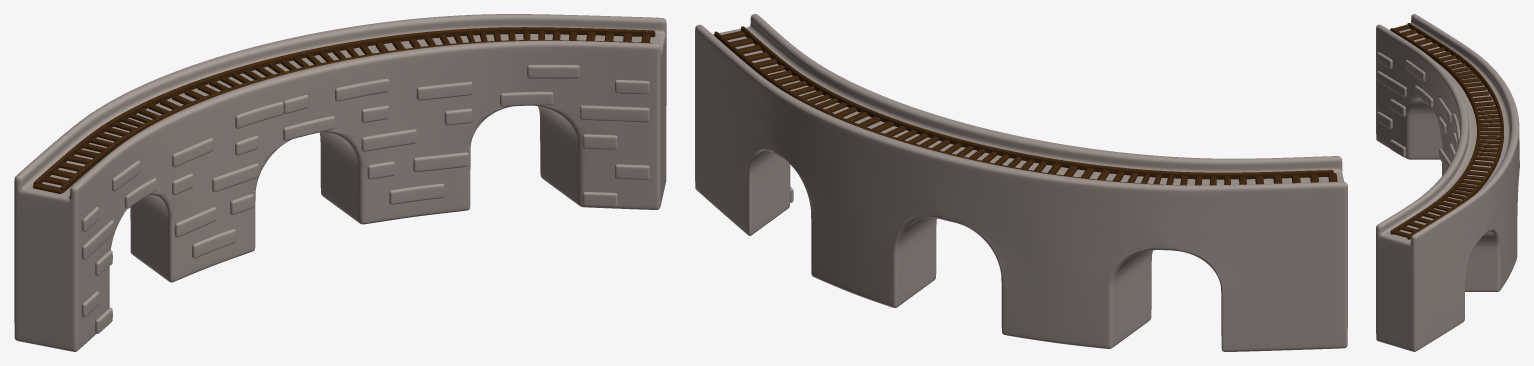
Rendered from railway-3d-icon-1185907311859.glb.
The picture shows the model from 3 angles, left to right: view 1: azimuth 30°, elevation 25°; view 2: azimuth 150°, elevation 25°; view 3: azimuth 270°, elevation 25°; orthographic projection. The views are drawn at different scales.
Parts seen in each view (by area): view 1: Bridge, Railway; view 2: Bridge, Railway; view 3: Bridge, Railway.
Boxes of the visible parts, x1,y1,x2,y2 form: Bridge: (14, 14, 666, 351); Railway: (33, 27, 655, 193); Bridge: (695, 14, 1347, 351); Railway: (714, 26, 1337, 185); Bridge: (1376, 14, 1519, 351); Railway: (1390, 23, 1503, 239).
Bounding box in the file's own units: 1.98 × 0.482 × 0.5384.
